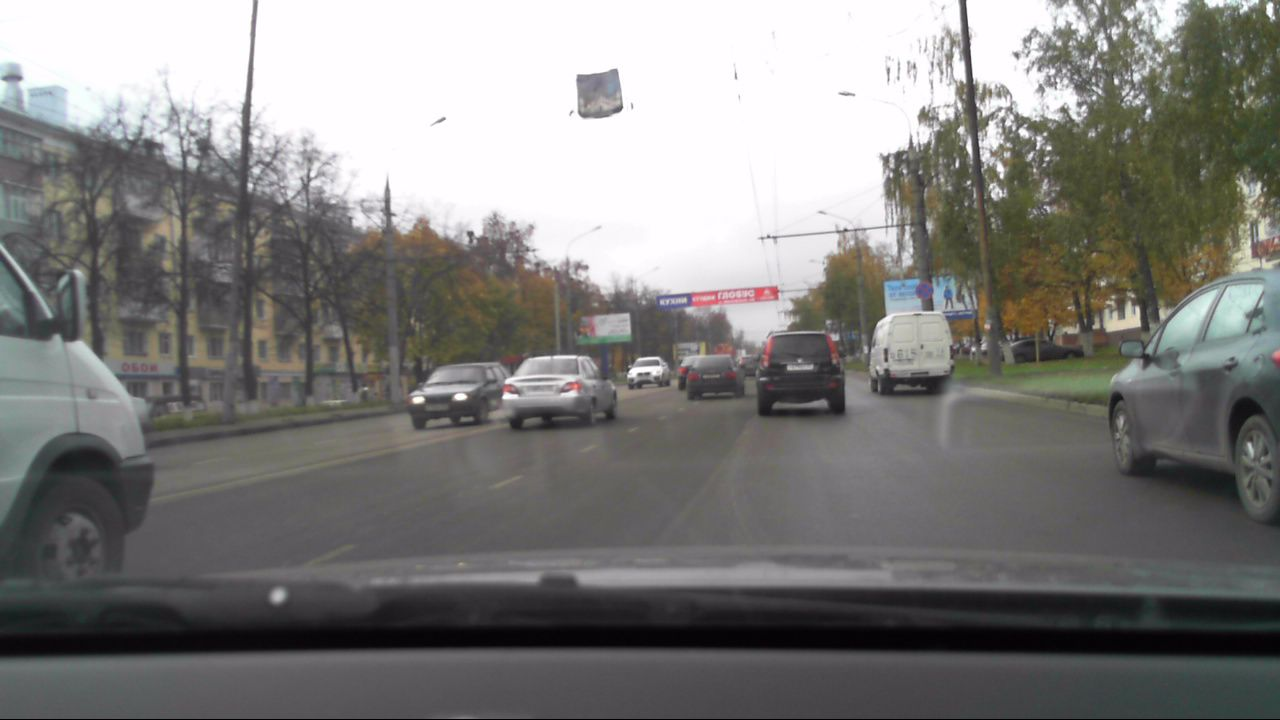No Parking: (914, 281, 934, 302)
